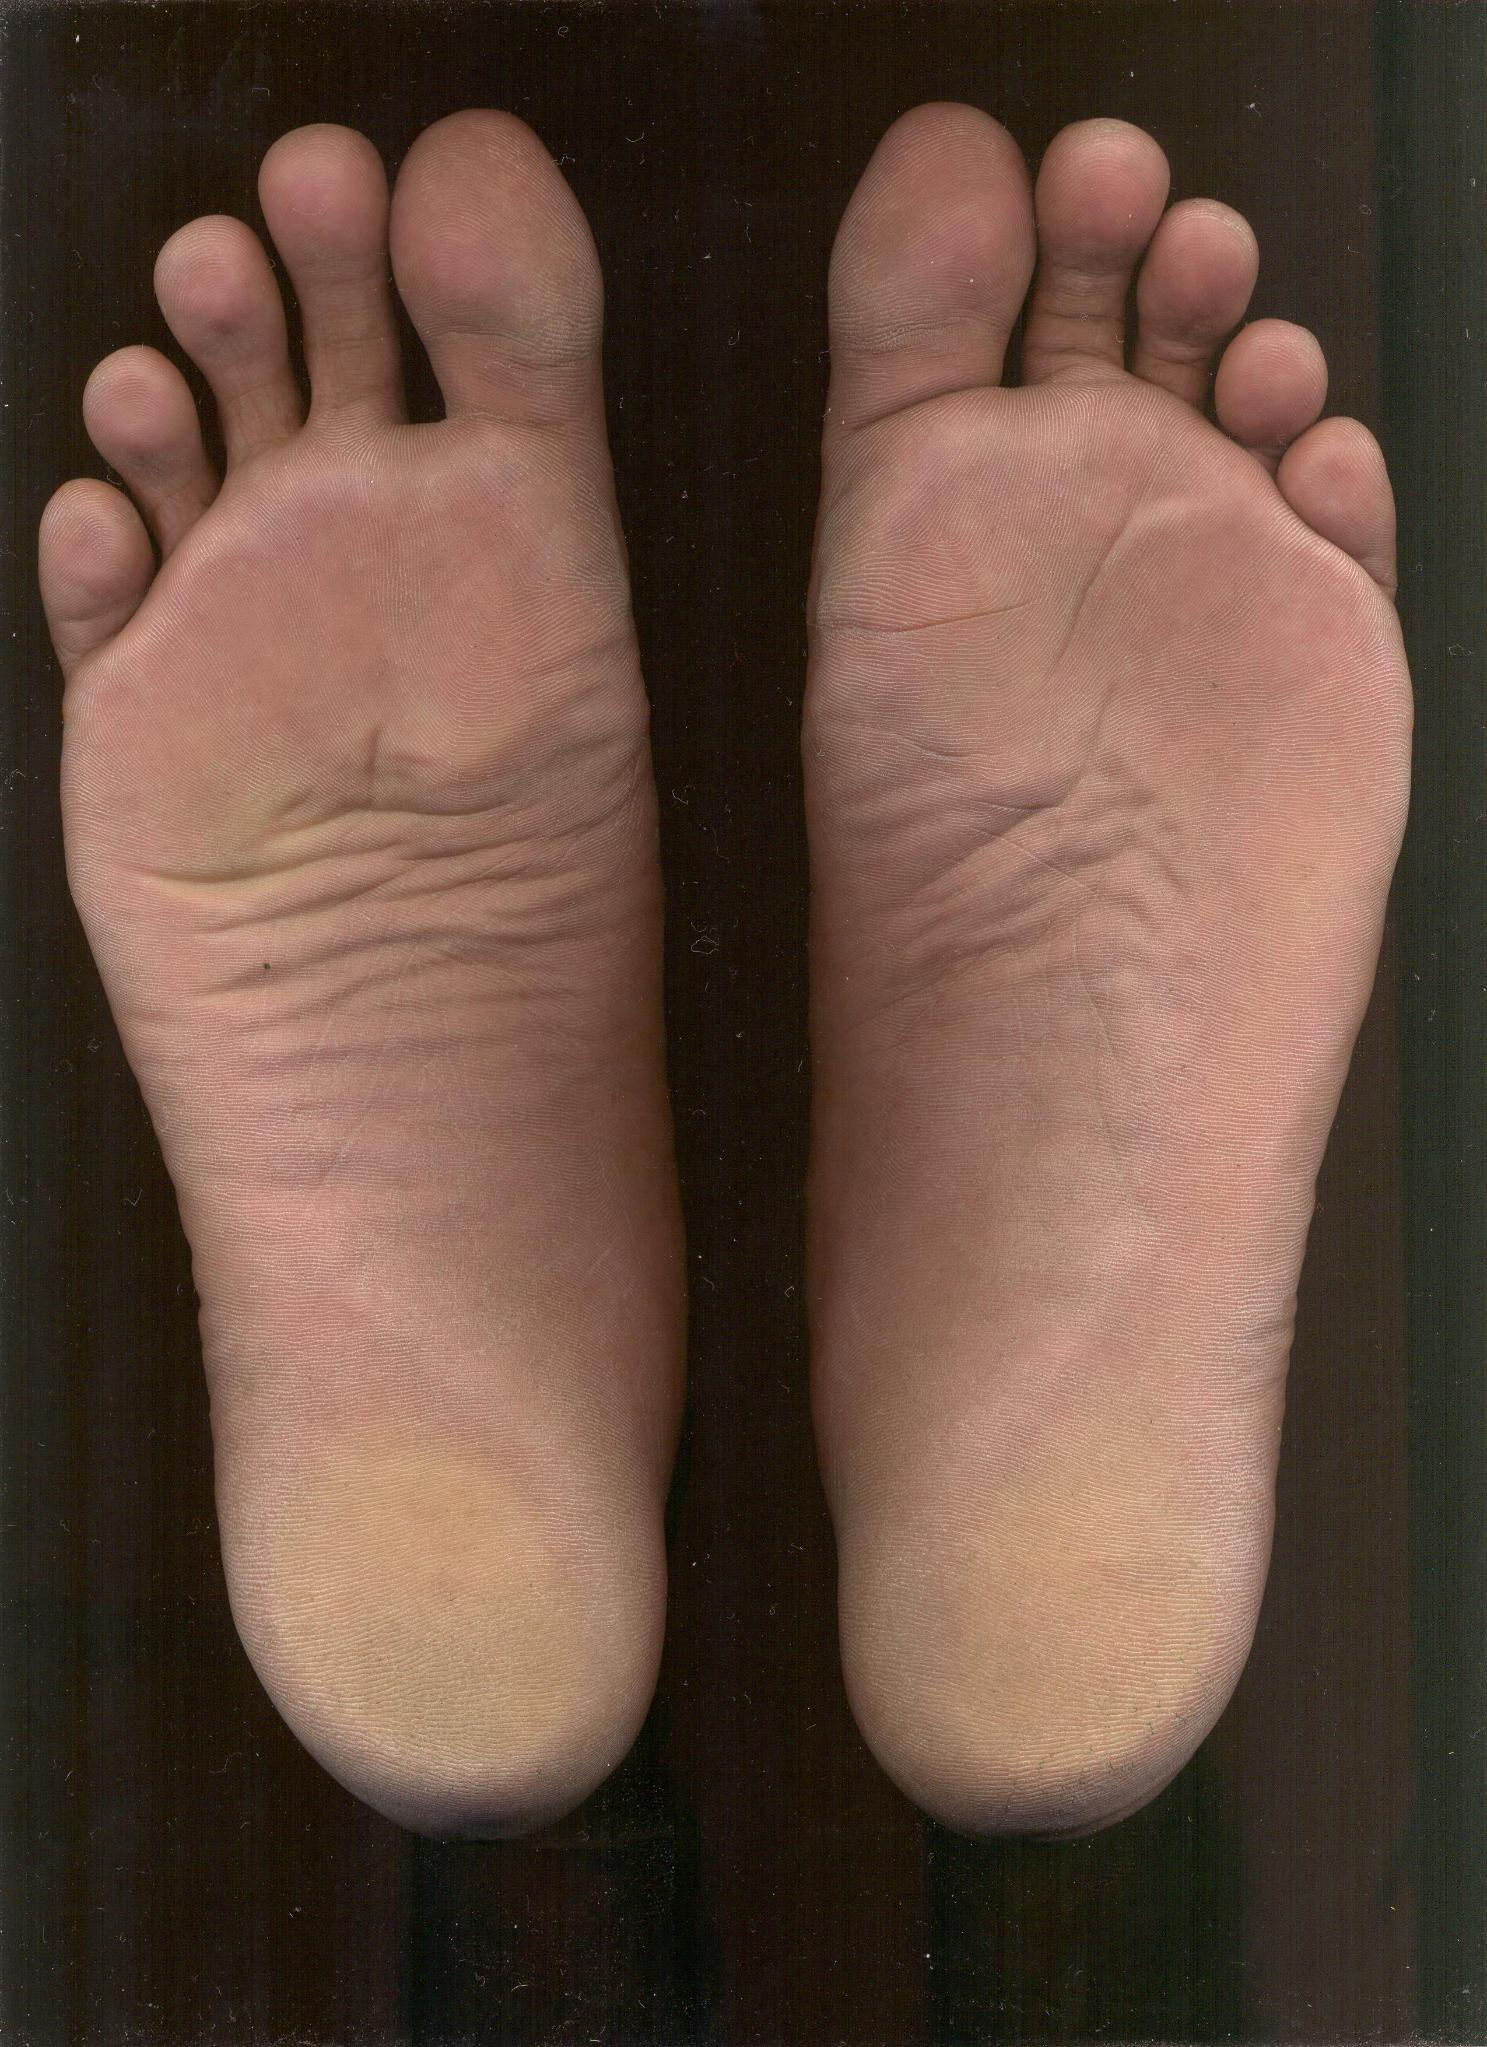Present: (35, 100, 736, 1837), (801, 87, 1419, 1855)
